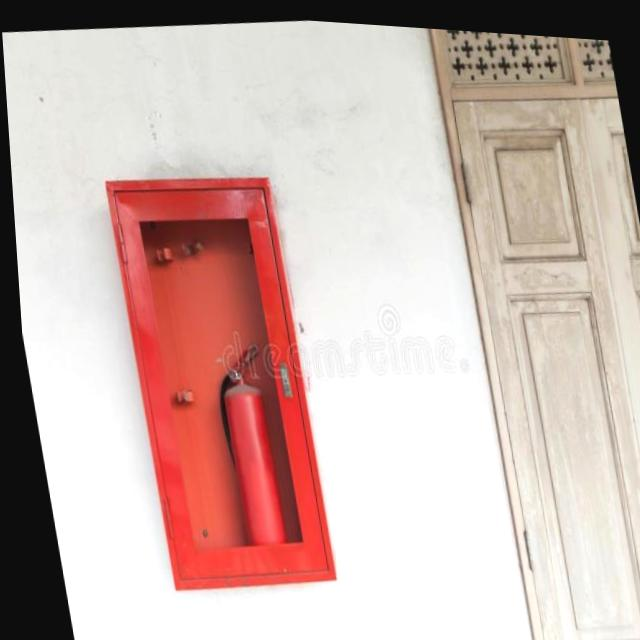FireExtinguisher: (197, 332, 293, 566)
